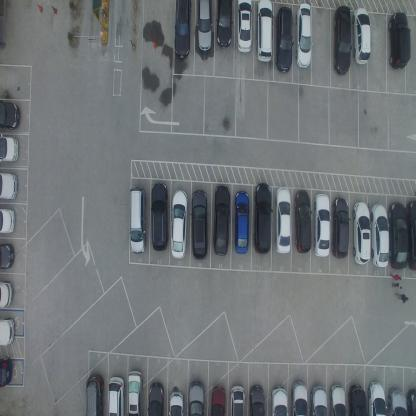car: (252, 182, 272, 255), (332, 5, 352, 76), (388, 200, 408, 270), (169, 188, 188, 260), (388, 12, 411, 70), (212, 183, 230, 257), (150, 180, 168, 252), (128, 185, 146, 255), (370, 202, 389, 268), (255, 0, 274, 63), (276, 5, 293, 75), (294, 187, 312, 253), (352, 199, 370, 265), (191, 188, 207, 262), (295, 2, 312, 71), (332, 195, 350, 260), (275, 186, 292, 254), (352, 6, 371, 66), (233, 189, 249, 255), (314, 193, 330, 258), (174, 0, 190, 60), (236, 0, 252, 55), (85, 373, 104, 415), (216, 0, 232, 49), (197, 0, 212, 52), (107, 375, 126, 415), (127, 368, 143, 415), (405, 200, 415, 271), (0, 99, 21, 131), (347, 382, 367, 415), (368, 380, 386, 416), (187, 381, 206, 415), (0, 133, 20, 164), (291, 379, 308, 415), (269, 386, 288, 416), (309, 386, 328, 416), (387, 388, 408, 415), (148, 381, 164, 415), (248, 384, 265, 416), (329, 383, 346, 415), (0, 171, 18, 200), (0, 353, 14, 390), (0, 316, 17, 346), (0, 242, 16, 272), (210, 385, 226, 415), (229, 386, 245, 416), (0, 207, 16, 236), (0, 278, 14, 311), (168, 389, 185, 415), (406, 387, 415, 415)
